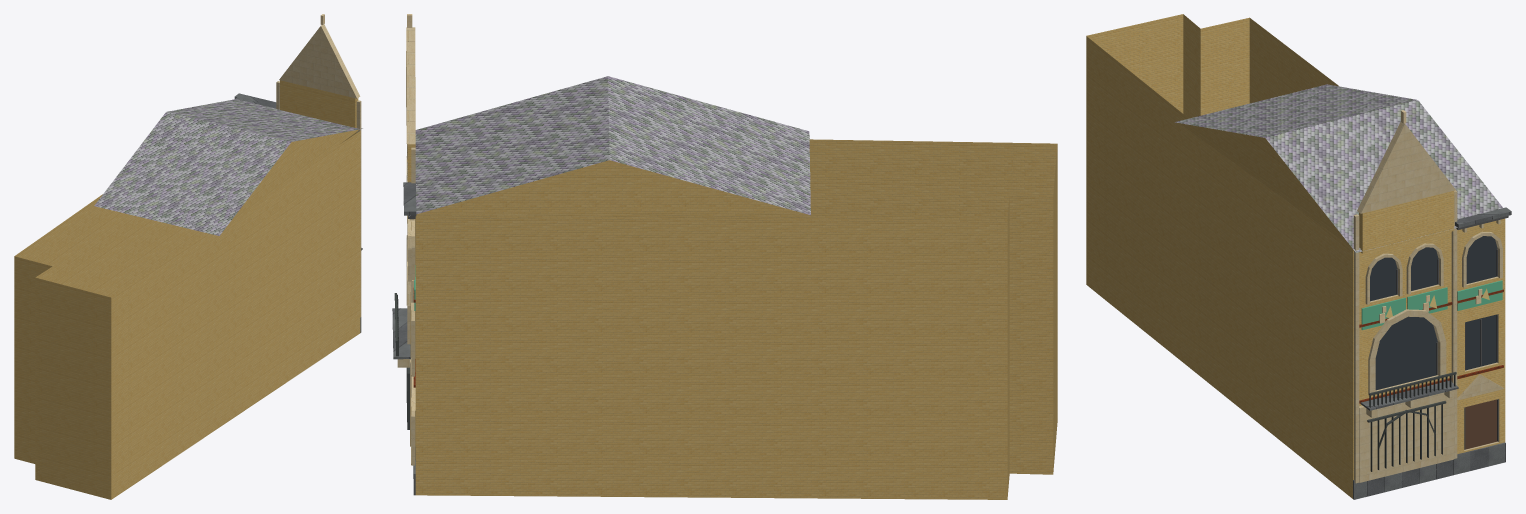
The picture shows the model from 3 angles, left to right: view 1: azimuth 30°, elevation 25°; view 2: azimuth 150°, elevation 25°; view 3: azimuth 270°, elevation 25°; orthographic projection. The views are drawn at different scales.
Visible parts, largest first — view 1: bldg_501637651_landmark; view 2: bldg_501637651_landmark; view 3: bldg_501637651_landmark.
Boxes of the visible parts, x1,y1,x2,y2 form: bldg_501637651_landmark: (14, 14, 362, 499); bldg_501637651_landmark: (392, 14, 1057, 499); bldg_501637651_landmark: (1086, 14, 1511, 499).
Size of the model in its own units: 22.94 by 16.7 by 17.06.
12 materials, 6 textured.
